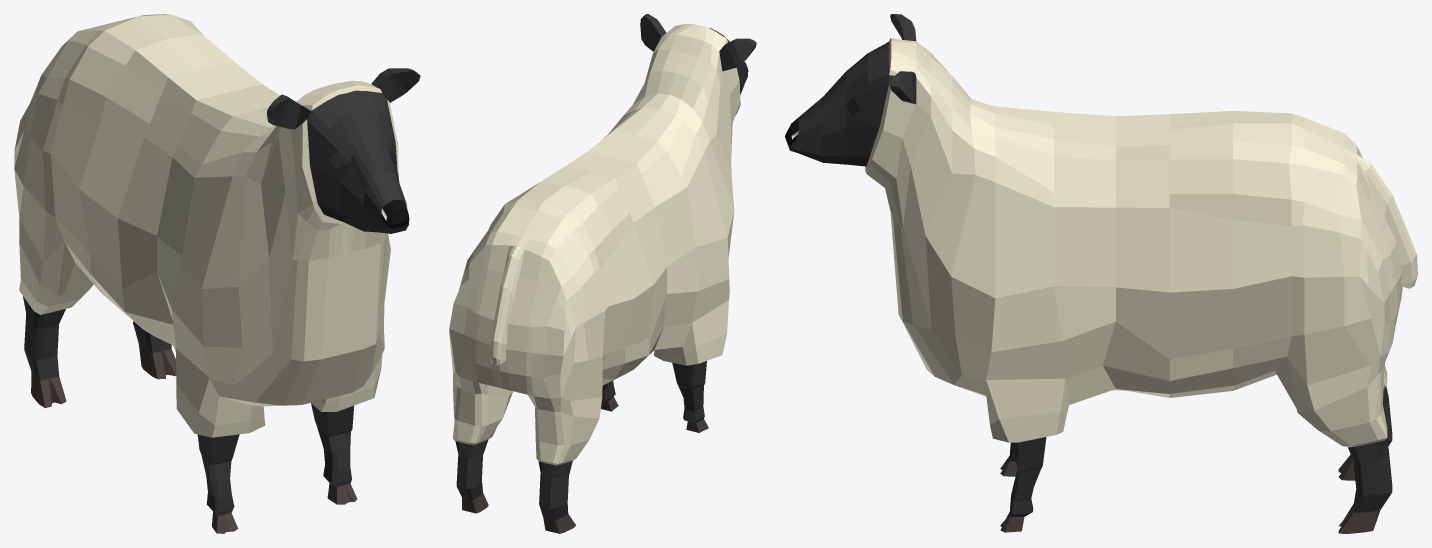
File: sheep.glb
3 renders of one model, left to right at view 1: azimuth 30°, elevation 25°; view 2: azimuth 150°, elevation 25°; view 3: azimuth 270°, elevation 25°, orthographic. The views are drawn at different scales.
Parts seen in each view (by area): view 1: Cube_0; view 2: Cube_0; view 3: Cube_0.
Part boxes in pixels (bbox=[...]): Cube_0: bbox=[14, 14, 420, 533]; Cube_0: bbox=[449, 14, 756, 533]; Cube_0: bbox=[785, 14, 1417, 533].
Bounding box in the file's own units: 2.27 × 5.62 × 7.07.
